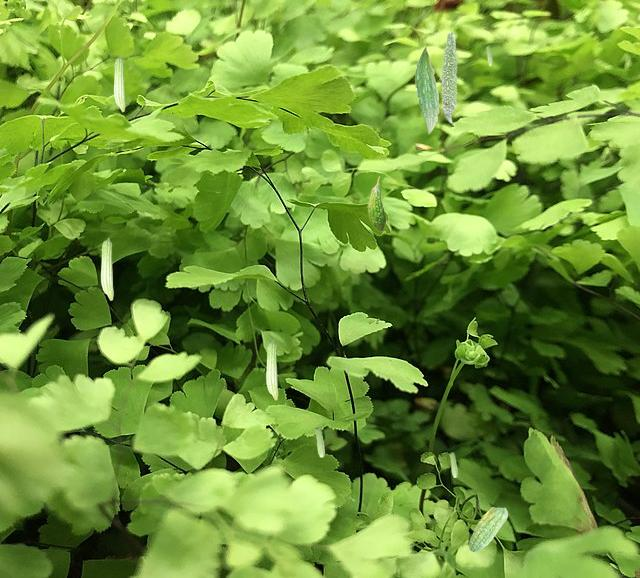ampalaya: (414, 46, 440, 134), (468, 506, 508, 552), (440, 30, 458, 124), (367, 176, 386, 232), (100, 236, 114, 301), (265, 339, 278, 400), (113, 54, 125, 112), (314, 426, 325, 457), (449, 451, 458, 478), (485, 45, 493, 66)
